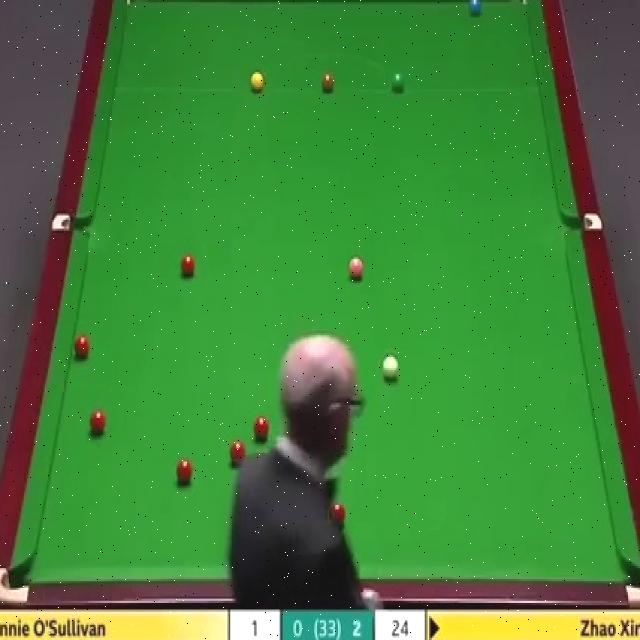blue-ball: (468, 0, 482, 20)
brown-ball: (322, 72, 336, 93)
green-ball: (390, 72, 406, 95)
pink-ball: (348, 254, 364, 285)
red-ball: (228, 439, 246, 467), (252, 414, 269, 442), (328, 501, 346, 527), (72, 334, 90, 360), (176, 457, 192, 486), (90, 410, 104, 435), (179, 253, 194, 276)
white-ball: (382, 354, 400, 382)
yellow-ball: (249, 71, 265, 93)
